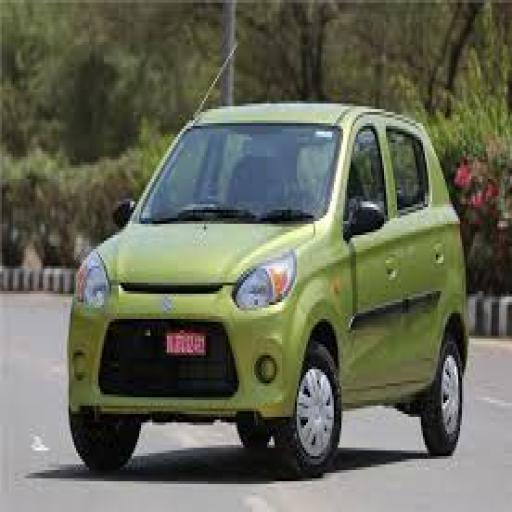License: (130, 324, 214, 365)
